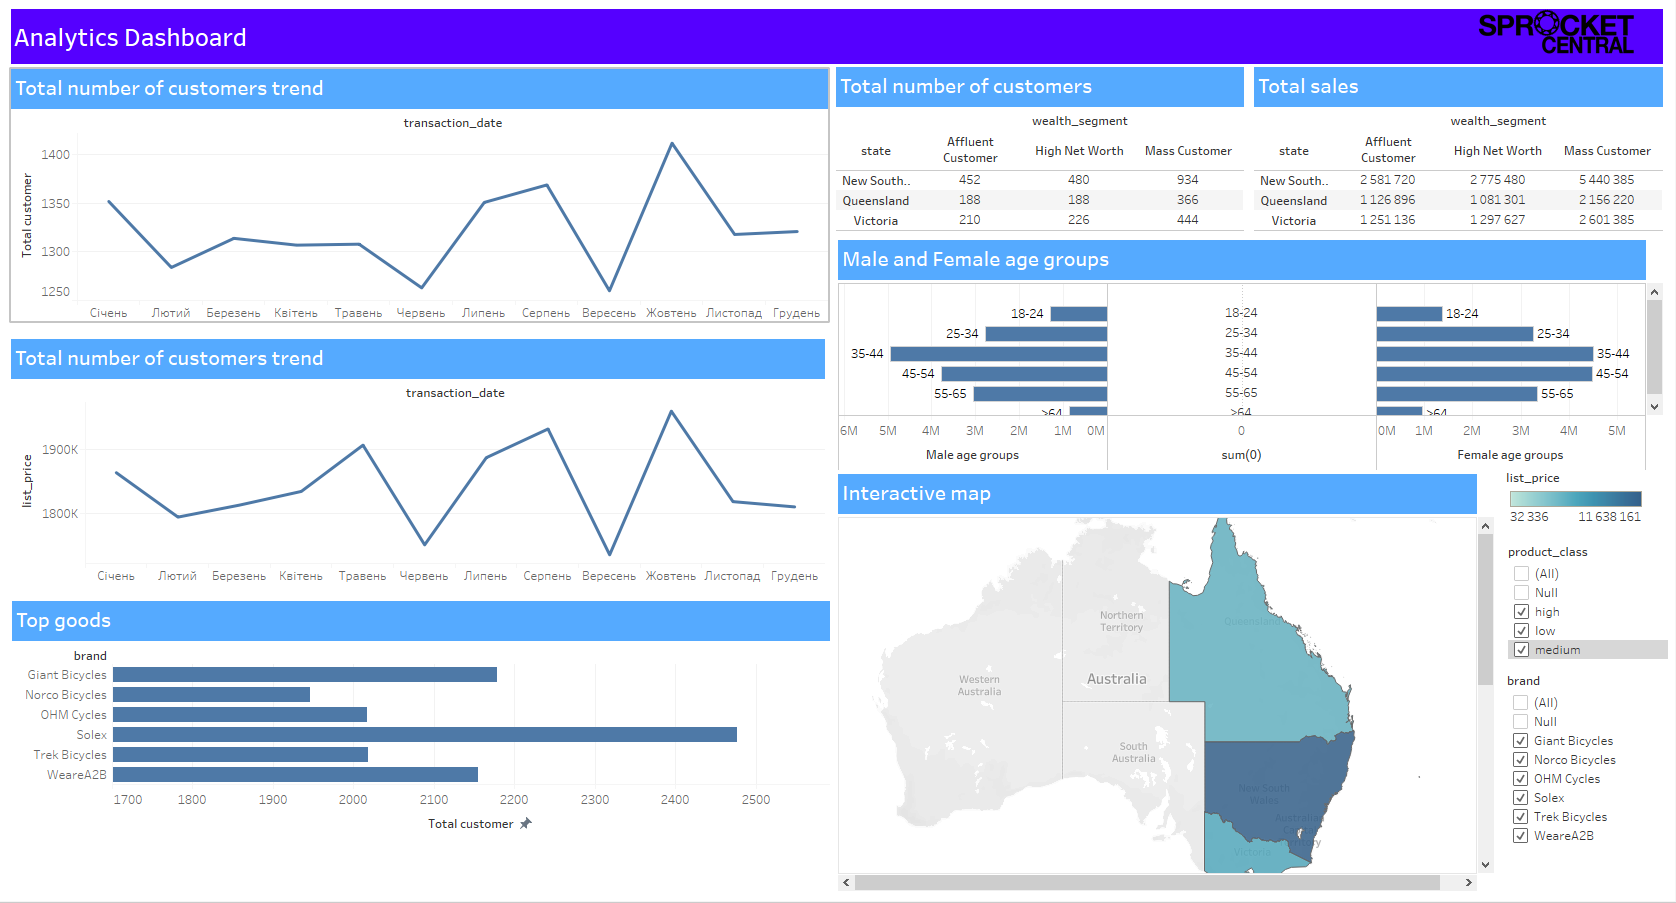

Layout of this report page (visuals, bound fields, positions):
{"tool":"tableau","page":{"name":"Dashboard_Final","canvas":[1000,1000],"units":"permille","ordinal":0},"visuals":[{"type":"worksheet","box":[0,0,1000,1000]},{"type":"worksheet","param":"vert","box":[4.8,8.8,990.5,982.3]},{"type":"worksheet","box":[4.8,8.8,990.5,69.7]},{"type":"worksheet","title":"Total_Customer","mark":"Automatic","rows":["state"],"cols":["wealth_segment"],"box":[499.4,77.4,245.8,187]},{"type":"worksheet","title":"Total_Sales","mark":"Automatic","rows":["state"],"cols":["wealth_segment"],"box":[748.8,77.4,244,187]},{"type":"worksheet","box":[4.8,78.5,990.5,912.6]},{"type":"worksheet","title":"Cusomer_trend","mark":"Automatic","rows":["Calculation_194499228687077376"],"cols":["transaction_date"],"box":[7.2,79.7,487.5,278.8]},{"type":"worksheet","title":"Age_groups","mark":"Automatic","rows":["Age_group"],"cols":["Calculation_735494133809020930","Calculation_194499228706365443","Calculation_735494133809414147"],"box":[500.6,268.8,493.4,255.5]},{"type":"worksheet","title":"Sales_trend","mark":"Automatic","rows":["list_price"],"cols":["transaction_date"],"box":[7.2,378.3,485.7,271]},{"type":"worksheet","title":"Map","mark":"Automatic","param":"[federated.1kbizu71f49xr9124hzk10sgq1o3].[sum:list_price:qk]","box":[899.2,522.1,83.5,84.1]},{"type":"worksheet","title":"Map","mark":"Automatic","box":[500.6,527.6,391.4,461.3]},{"type":"worksheet","title":"Map","mark":"Automatic","param":"[federated.1kbizu71f49xr9124hzk10sgq1o3].[none:product_class:nk]","box":[900.4,604,95.5,131.6]},{"type":"worksheet","title":"top_goods","mark":"Automatic","rows":["brand"],"cols":["Calculation_194499228687077376"],"box":[7.8,668.1,488.1,319.7]},{"type":"worksheet","title":"Map","mark":"Automatic","param":"[federated.1kbizu71f49xr9124hzk10sgq1o3].[none:brand:nk]","box":[899.8,746.7,95.5,194.7]}]}

Visuals, with their boxes on the dashboard's canvas, which has no fixed pixel size, in thousandths of its width and height (x1, y1, x2, y2). These are canvas units, not pixel positions in the 1676x903 screenshot, which may show the page scaled, cropped or inside an application window:
worksheet: Rect(0, 0, 1000, 1000)
worksheet: Rect(5, 9, 995, 991)
worksheet: Rect(5, 9, 995, 78)
"Total_Customer" worksheet: Rect(499, 77, 745, 264)
"Total_Sales" worksheet: Rect(749, 77, 993, 264)
worksheet: Rect(5, 78, 995, 991)
"Cusomer_trend" worksheet: Rect(7, 80, 495, 358)
"Age_groups" worksheet: Rect(501, 269, 994, 524)
"Sales_trend" worksheet: Rect(7, 378, 493, 649)
"Map" worksheet: Rect(899, 522, 983, 606)
"Map" worksheet: Rect(501, 528, 892, 989)
"Map" worksheet: Rect(900, 604, 996, 736)
"top_goods" worksheet: Rect(8, 668, 496, 988)
"Map" worksheet: Rect(900, 747, 995, 941)
